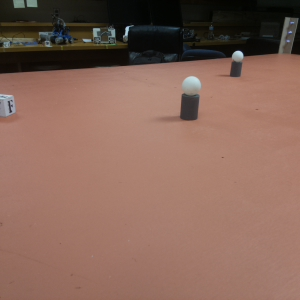blockF: (1, 91, 14, 118)
corner: (280, 17, 297, 57)
obstacle: (181, 74, 201, 122), (231, 50, 244, 78)
